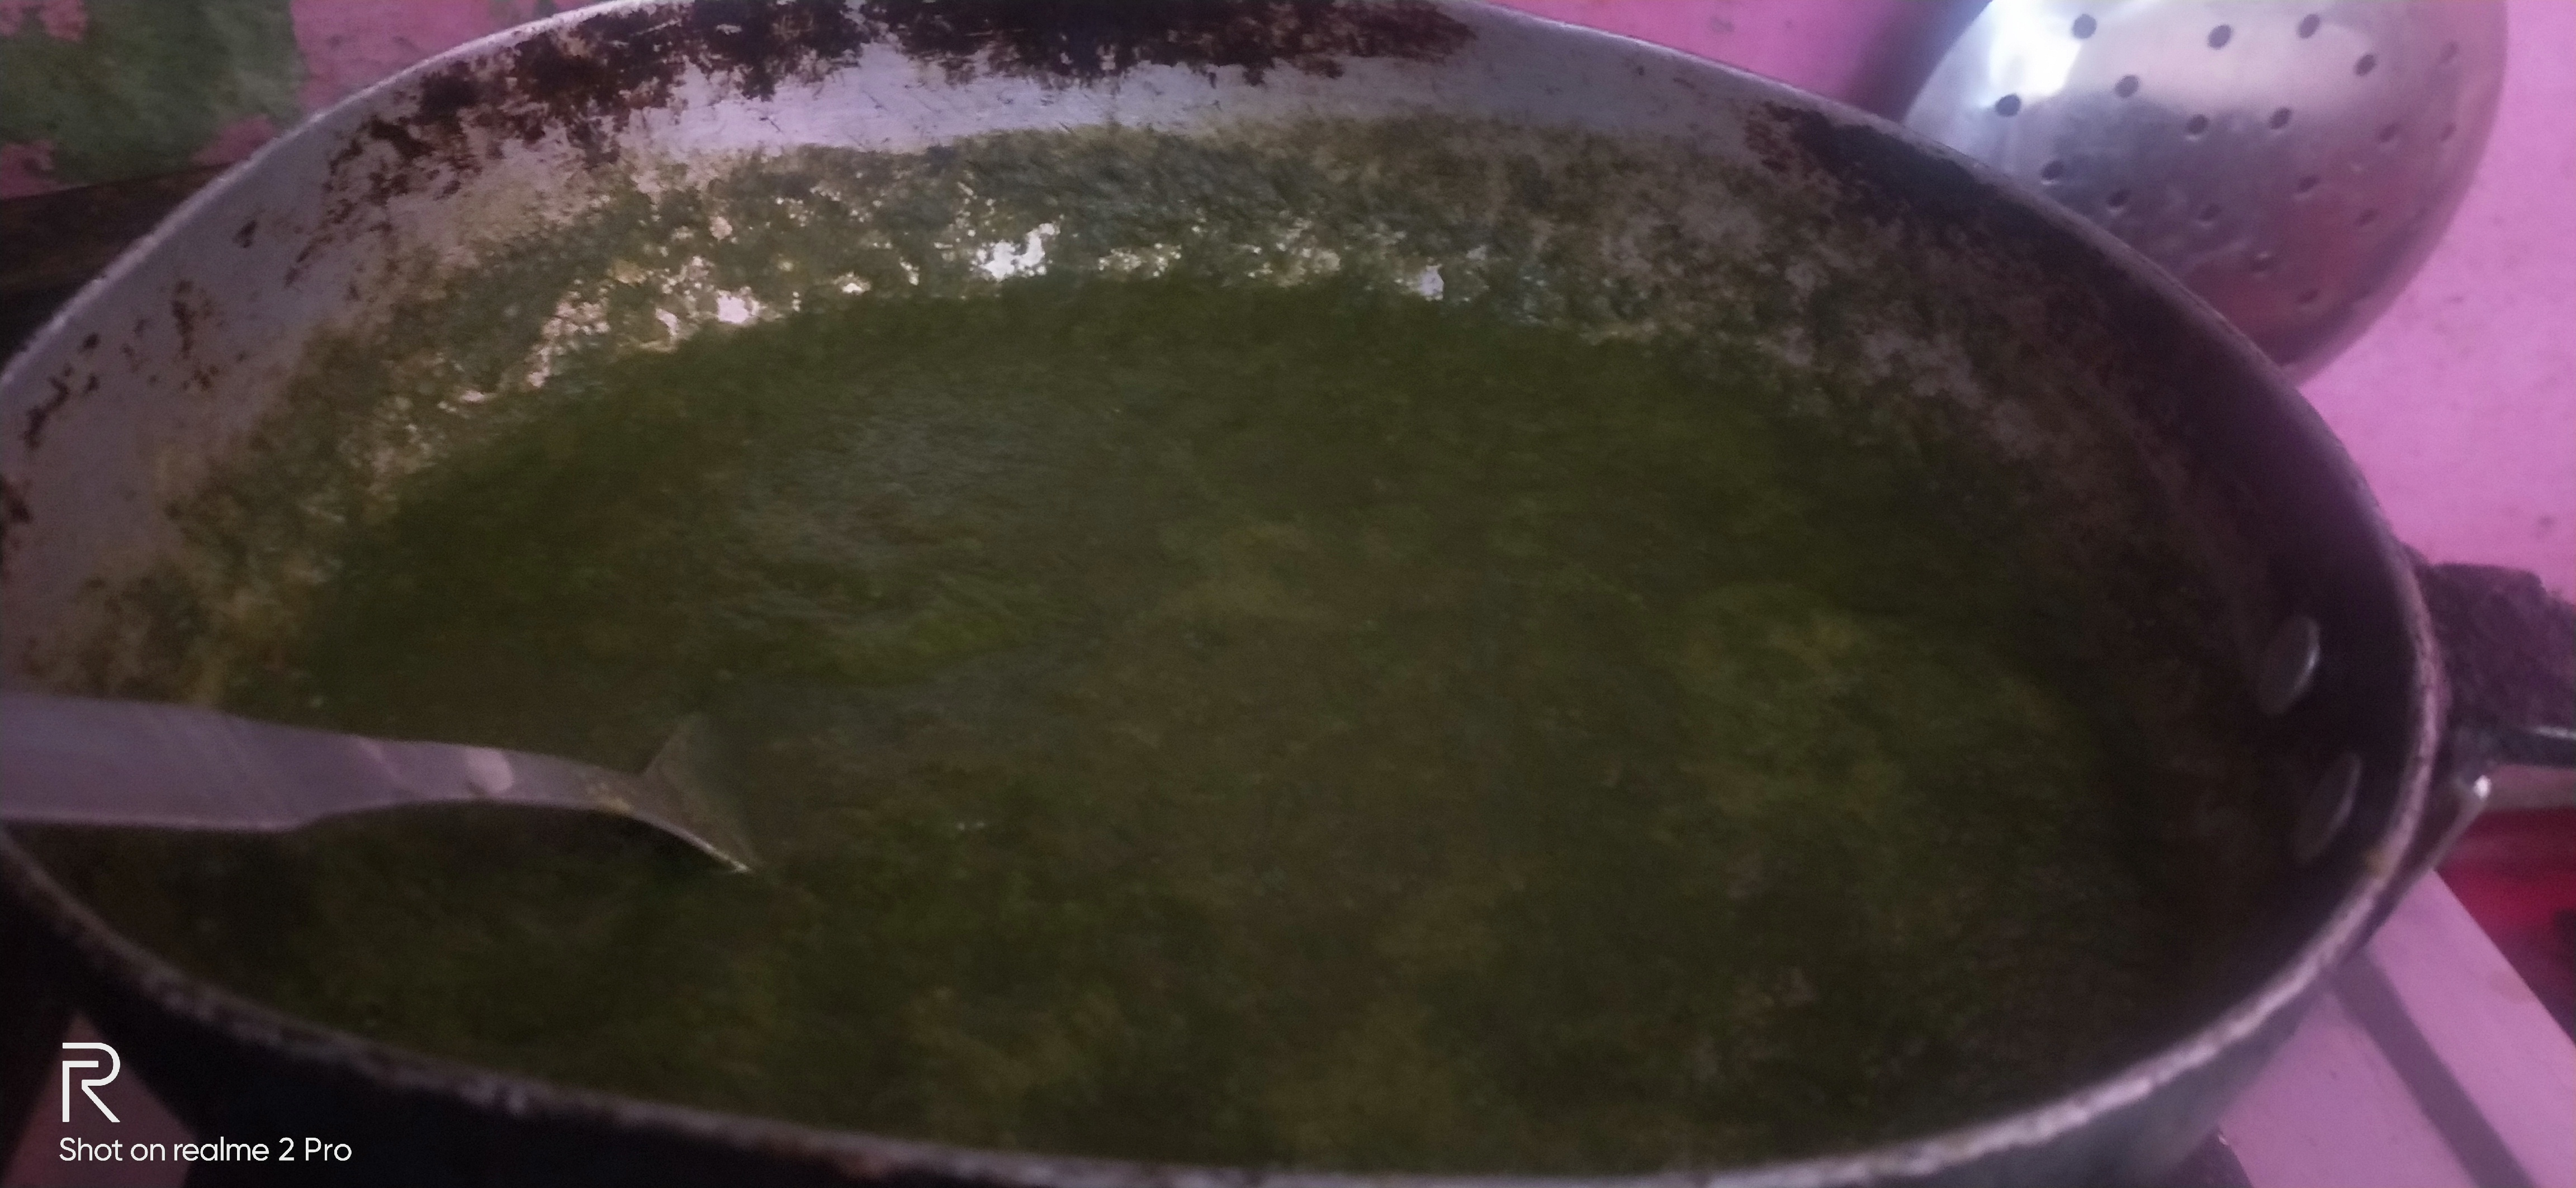food: (2, 123, 2328, 1188)
